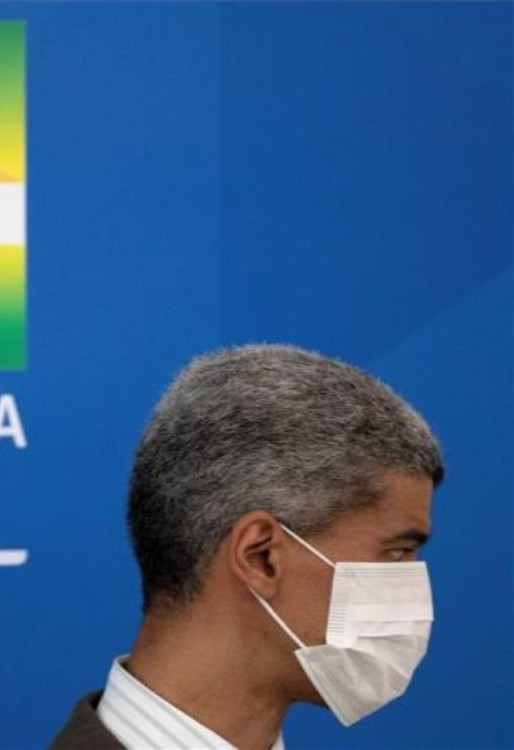with_mask: (175, 374, 453, 750)
